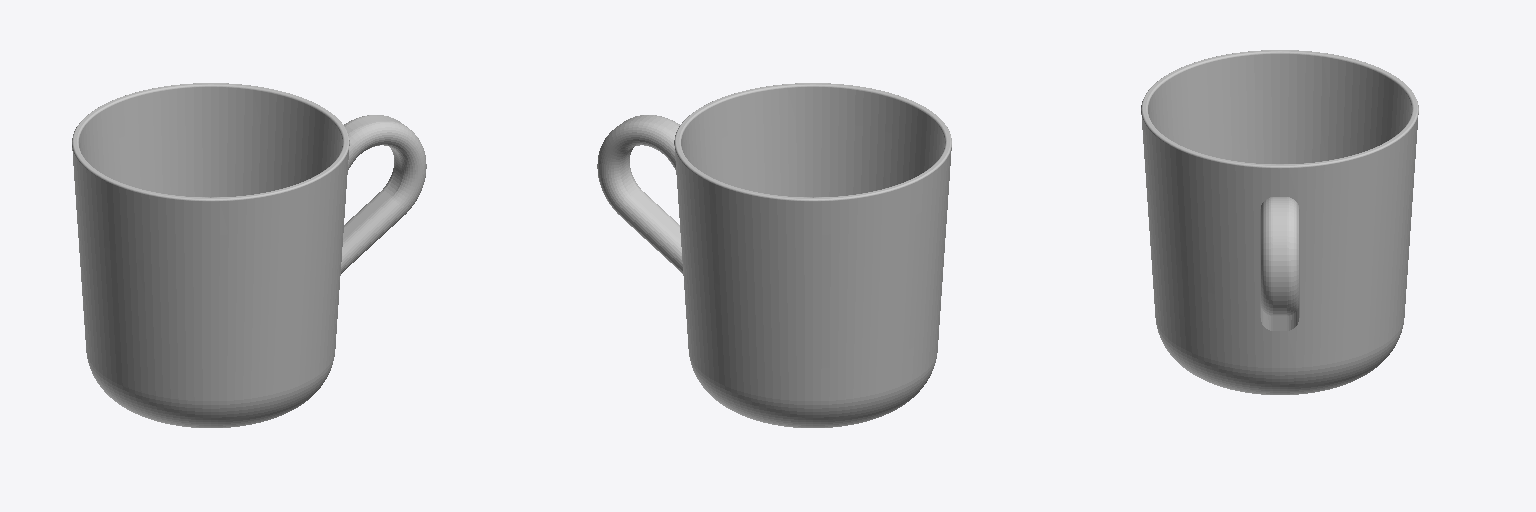
The model's file is mug.obj.
The picture shows the model from 3 angles: view 1: azimuth 30°, elevation 25°; view 2: azimuth 150°, elevation 25°; view 3: azimuth 270°, elevation 25°; orthographic projection.
Visible parts, largest first — view 1: Line001, Revit_000252_10; view 2: Line001, Revit_000252_10; view 3: Line001, Revit_000252_10.
Boxes of the visible parts, x1,y1,x2,y2 form: Line001: [72, 83, 349, 427]; Revit_000252_10: [341, 115, 426, 273]; Line001: [674, 83, 951, 427]; Revit_000252_10: [597, 115, 682, 273]; Line001: [1141, 50, 1418, 394]; Revit_000252_10: [1260, 197, 1299, 330].
Bounding box in the file's own units: 110 × 80 × 79.93.